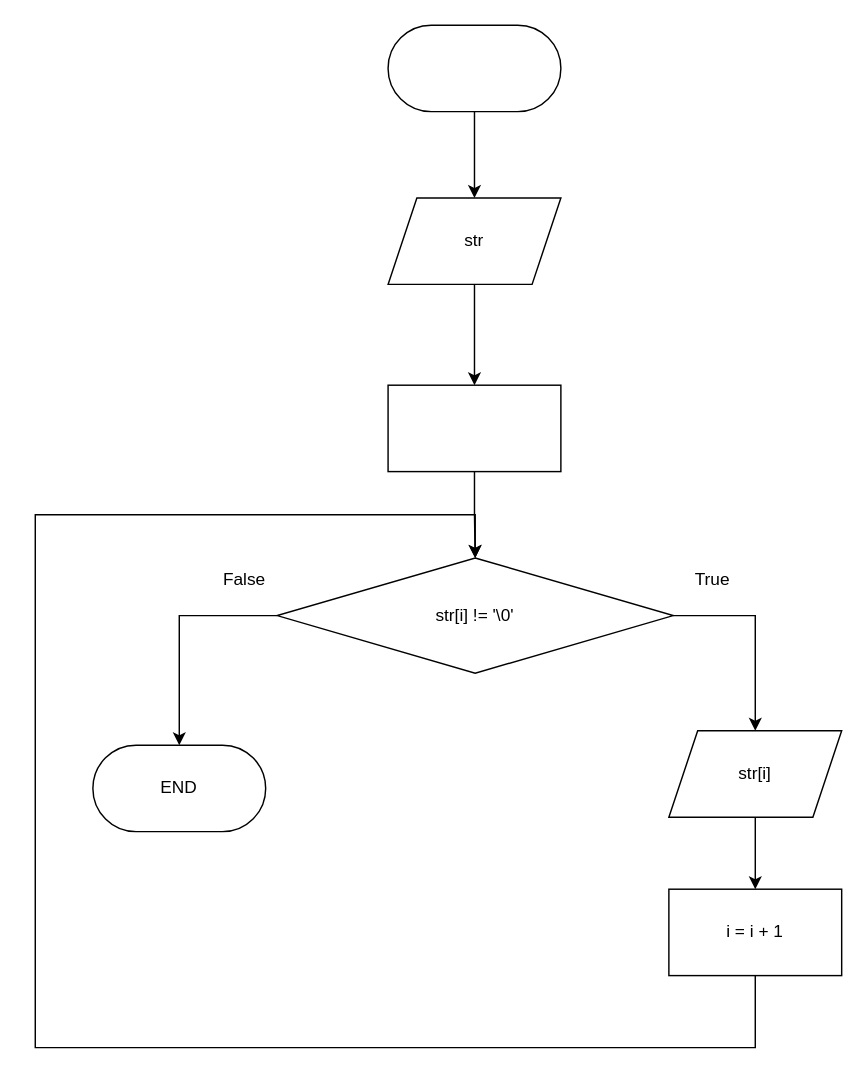
The diagram is 867 pixels wide and 1084 high, and some of its shapes have lost their labels. The shapes that lost their labels are listed below. From the top down, each one's centre as x and y in pixels, then its label:
(474,68): Main
(474,428): i = 0
